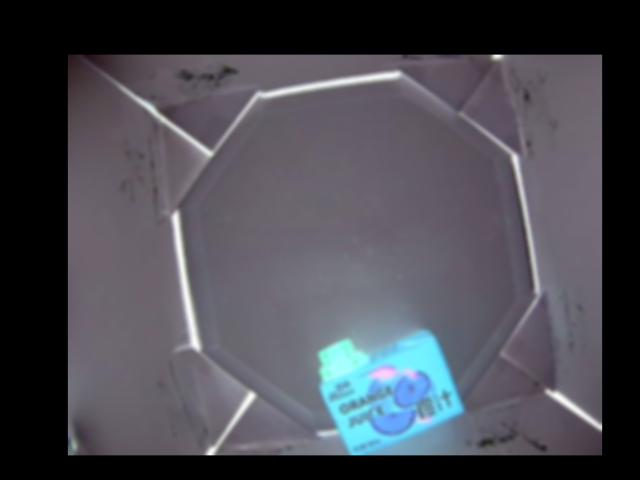Bottle: (315, 330, 468, 455)
